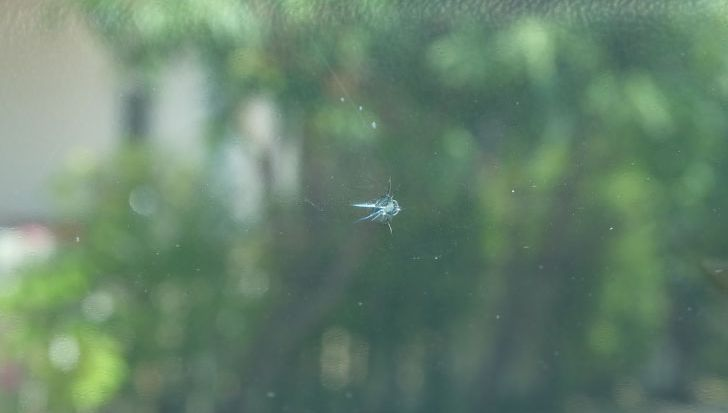bullseye: (333, 170, 430, 254)
